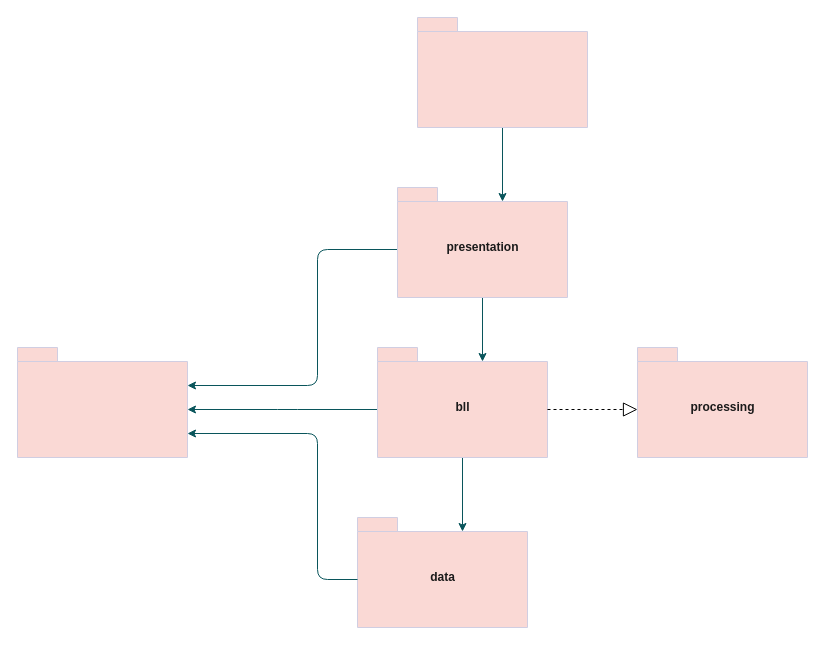
Some shapes in this 825 by 645 pixel diagram are drawn without their labels. Each missing label, with the box of its shape:
application: (416, 16, 588, 128)
model: (16, 346, 188, 458)
